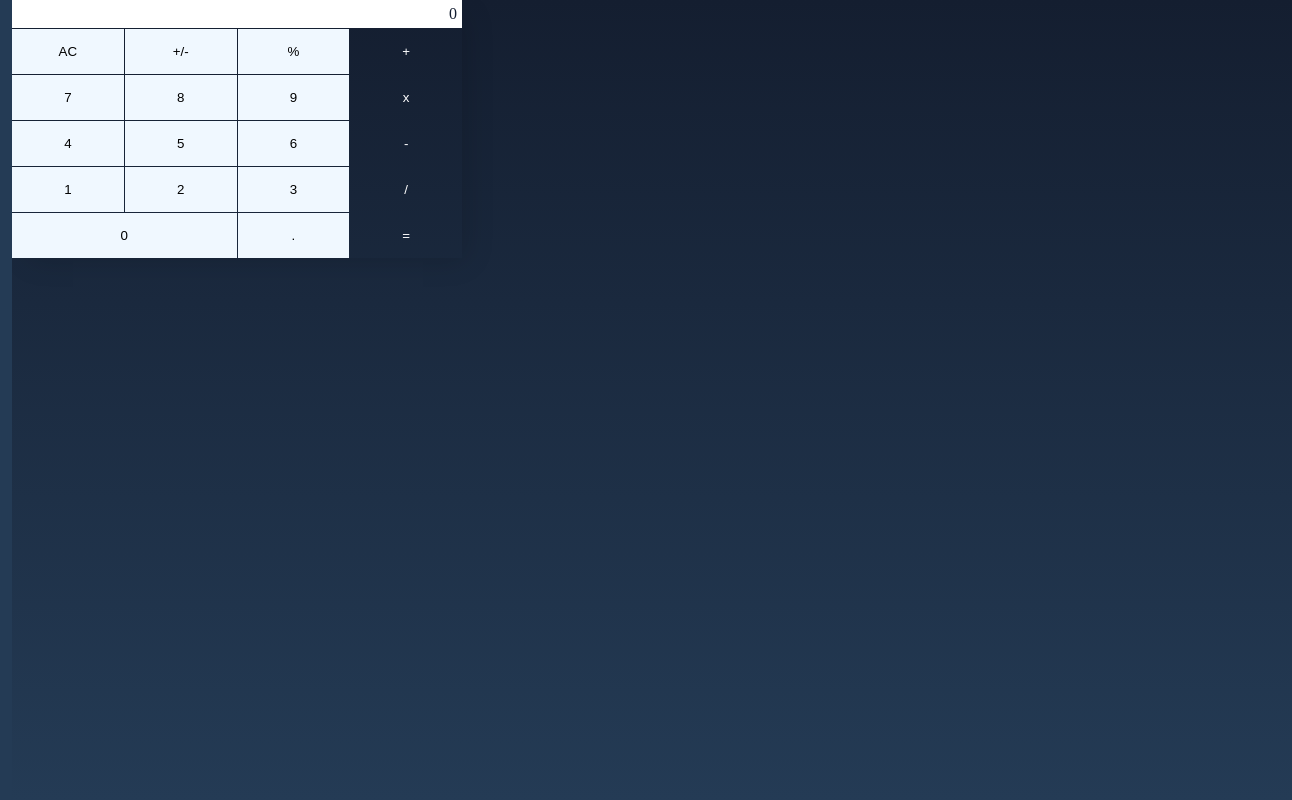
Test: Calculator › should set screen innerTextContent to button data value when buttons are clicked continuously
What coordinates should you click on to do the following:
click the button "1"
I would click on:
 (68, 190)
Its box is [12, 167, 124, 212].
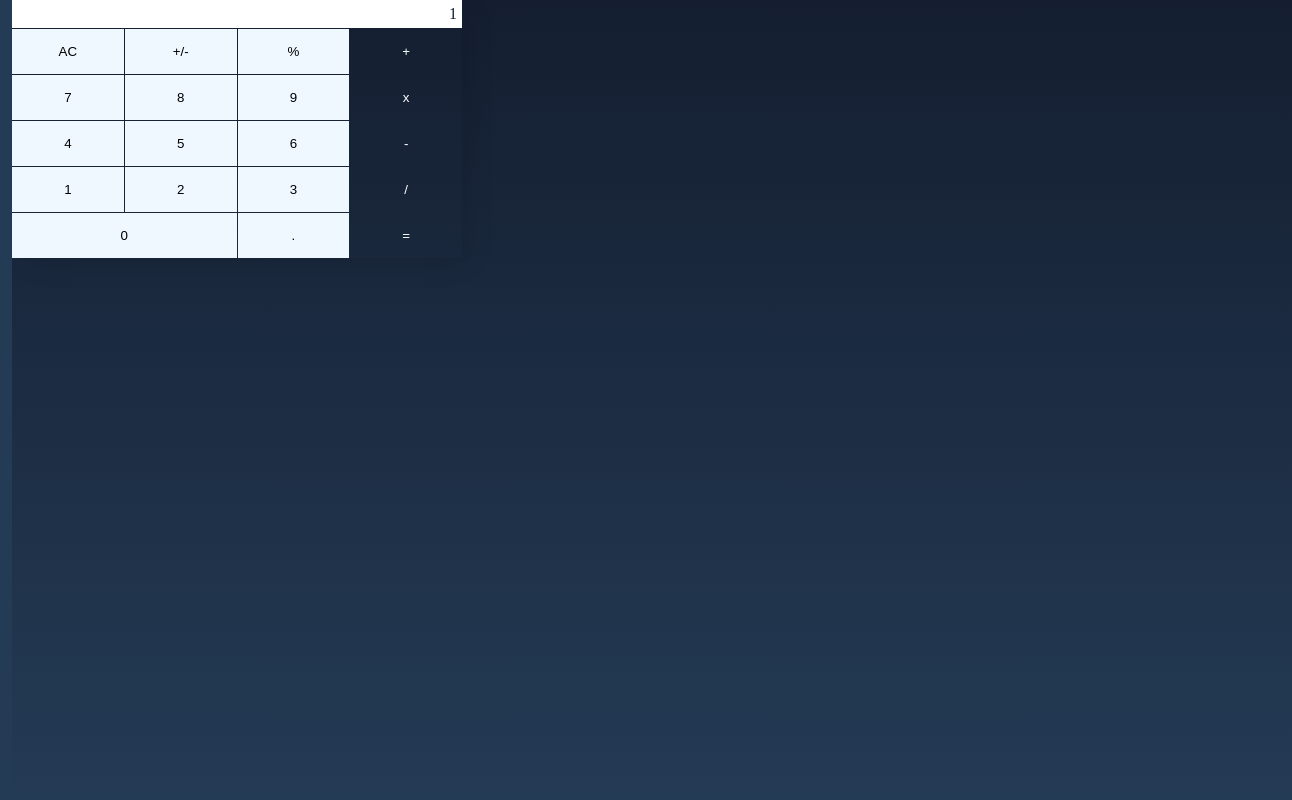
What coordinates should you click on to do the following:
click the button "2"
I would click on:
 (181, 190)
Its box is [125, 167, 237, 212].
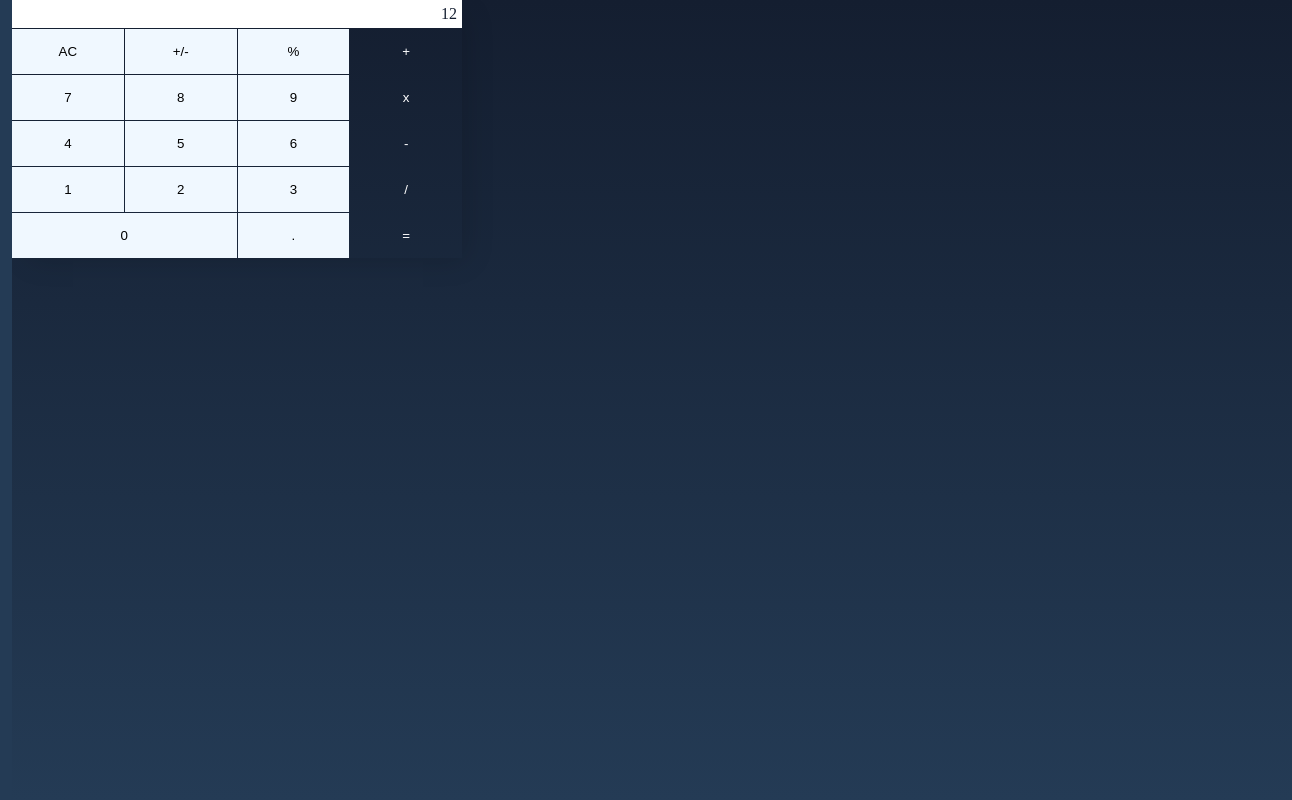
What coordinates should you click on to do the following:
click the button "+"
I would click on:
 (406, 52)
Its box is [350, 29, 462, 74].
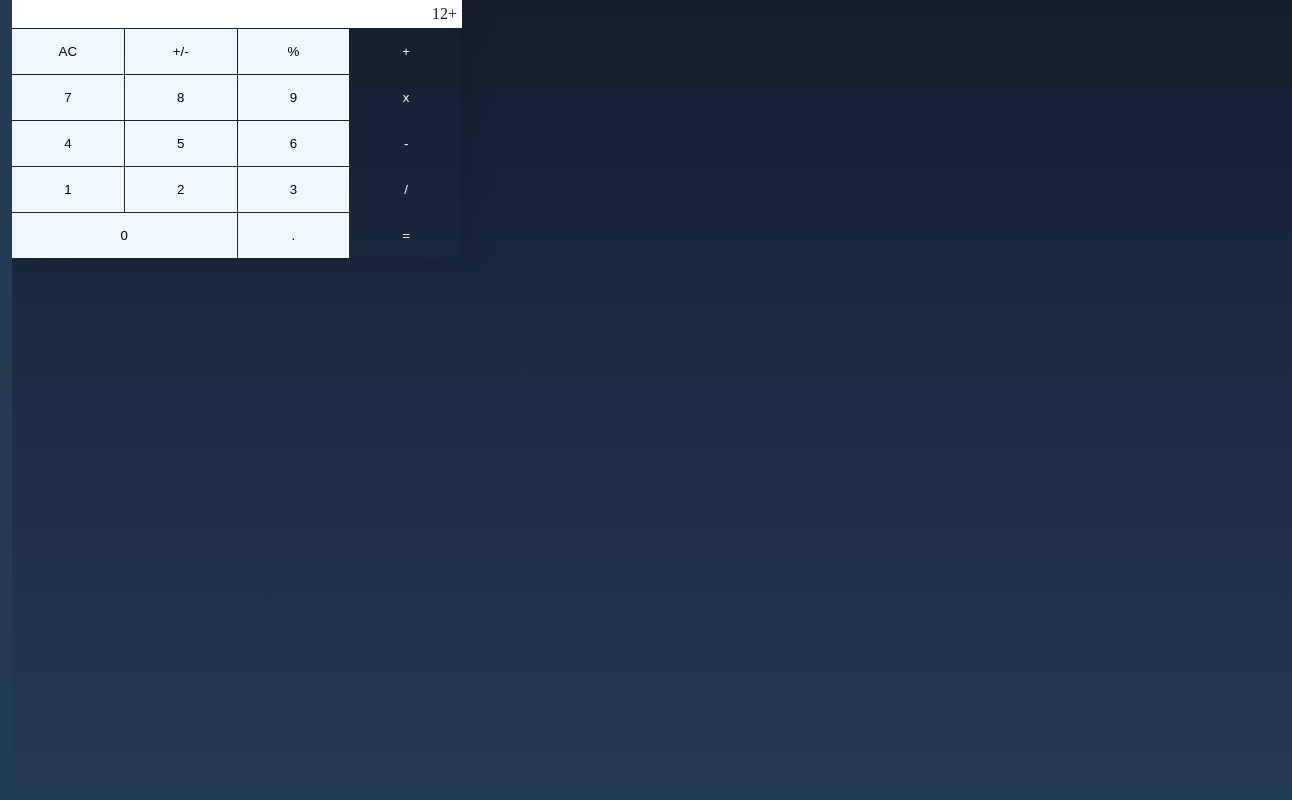
Expected: the text with test id "screenTestId" reads "12+", [432, 5, 457, 22]
